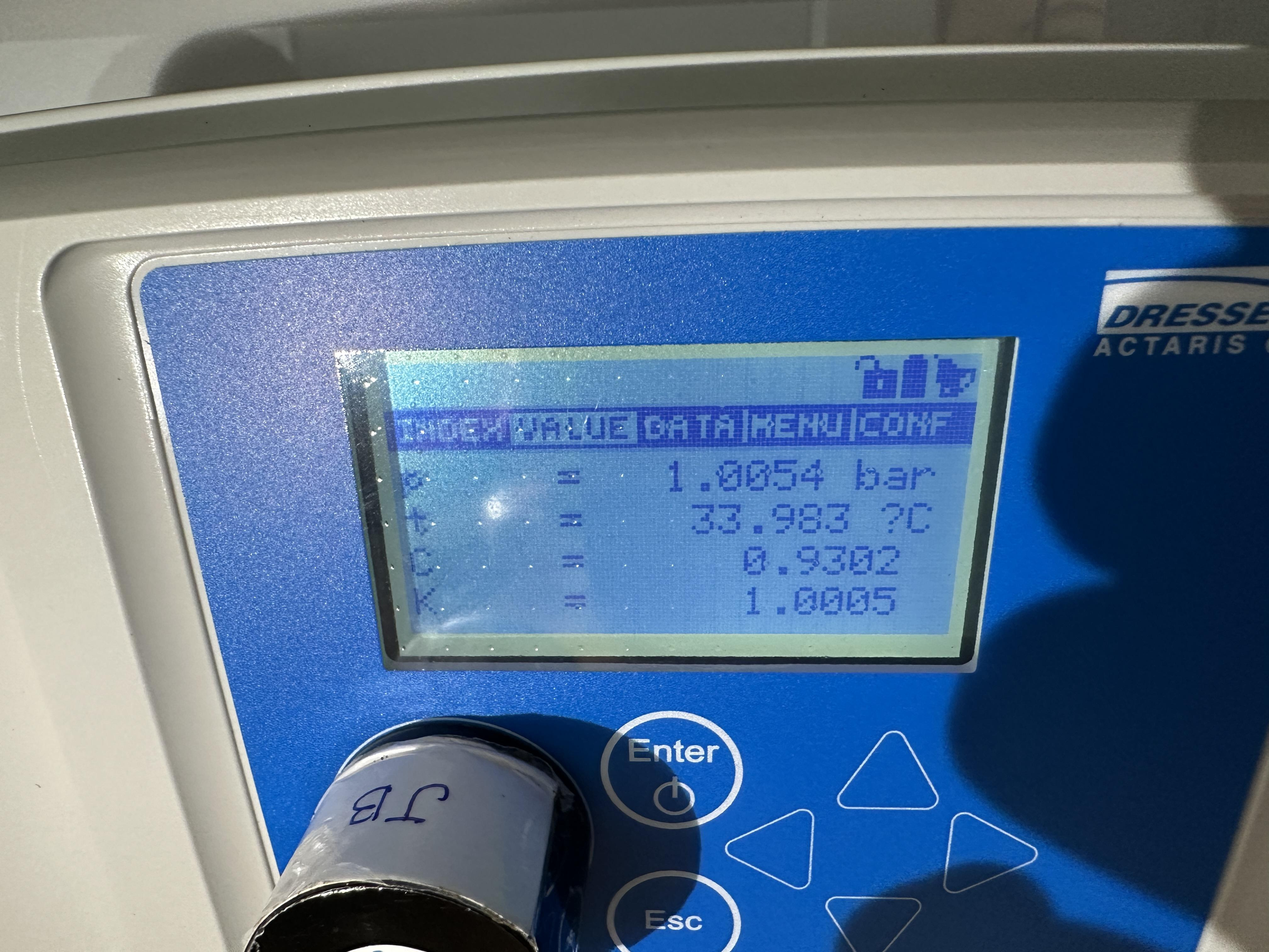digital_screen: (360, 339, 1005, 670)
